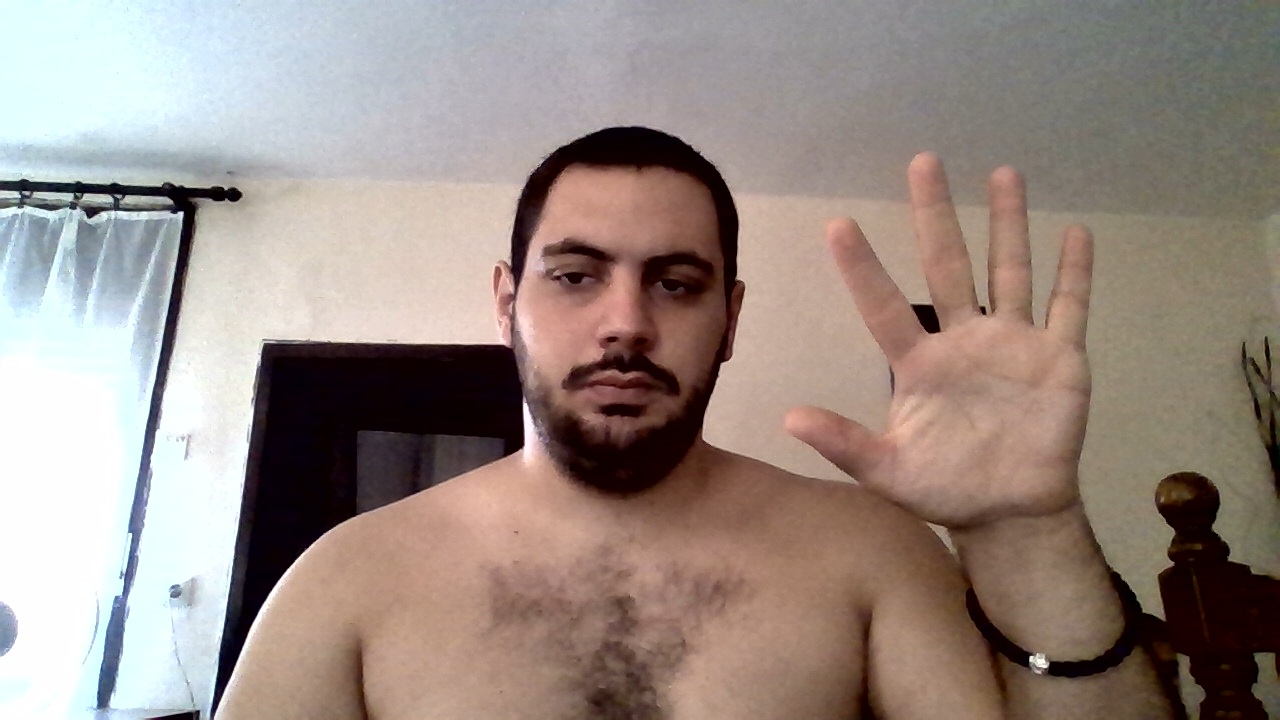palm: (783, 153, 1099, 538)
